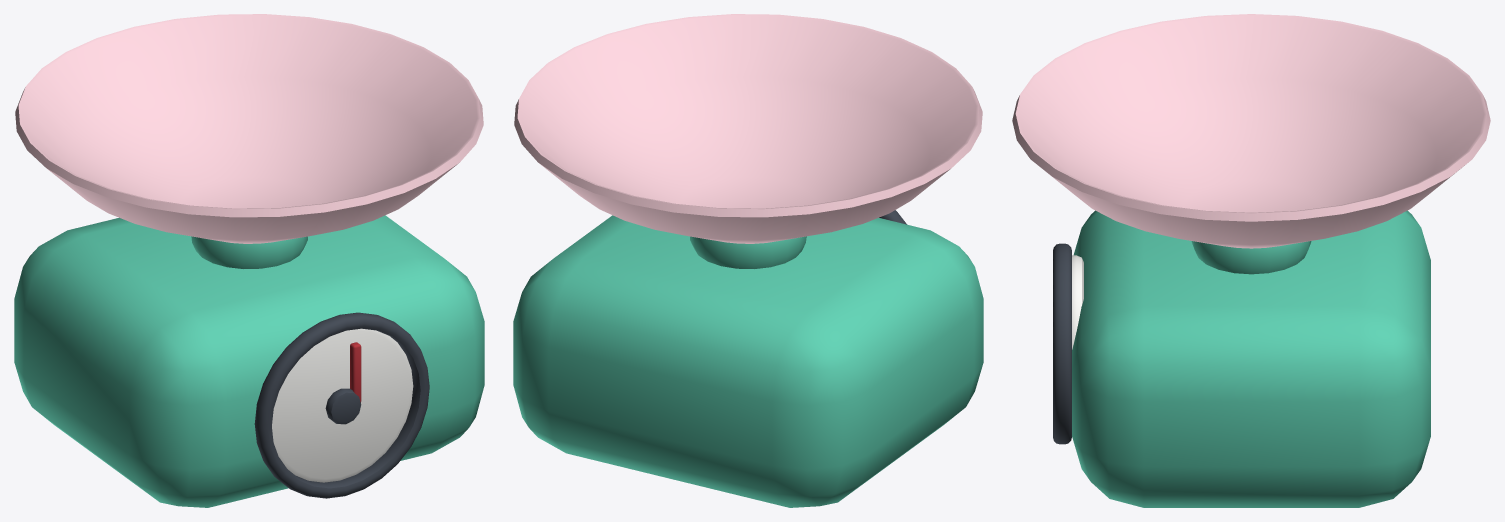
File: balanca_cozinha_verde.glb
3 renders of one model, left to right at view 1: azimuth 30°, elevation 25°; view 2: azimuth 150°, elevation 25°; view 3: azimuth 270°, elevation 25°, orthographic.
Visible parts, largest first — view 1: balanca_cozinha_verde; view 2: balanca_cozinha_verde; view 3: balanca_cozinha_verde.
Part boxes in pixels (x1=…): balanca_cozinha_verde: x1=14, y1=14, x2=484, y2=507; balanca_cozinha_verde: x1=513, y1=14, x2=983, y2=507; balanca_cozinha_verde: x1=1012, y1=14, x2=1490, y2=507.
Bounding box in the file's own units: 0.2 × 0.1532 × 0.2.
1 material, 1 textured.
